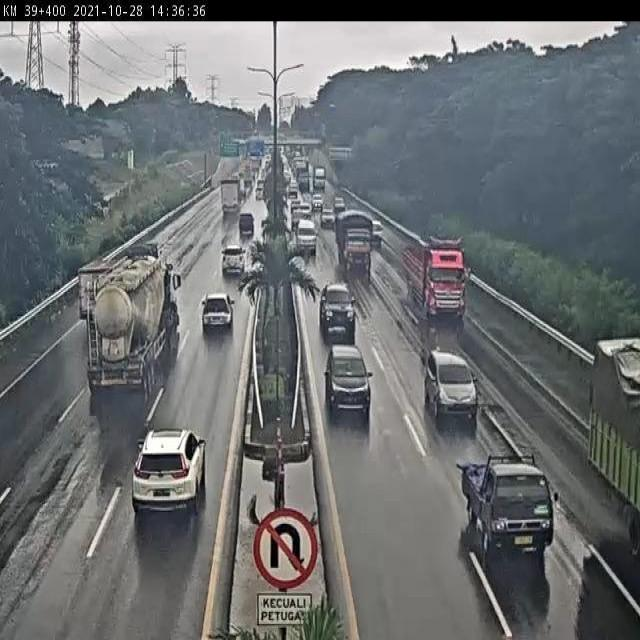truck-m-: (404, 237, 468, 315), (332, 211, 371, 272)
truck-xl-: (83, 256, 183, 396)
